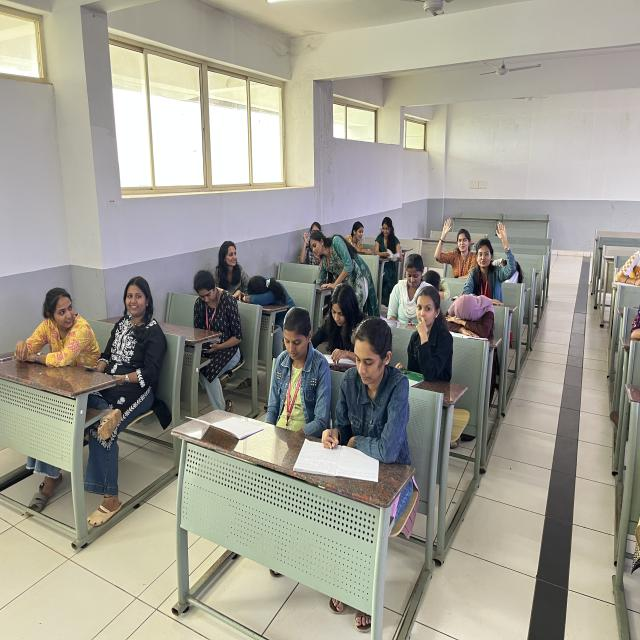Hand Rising: (462, 214, 516, 301), (434, 214, 478, 278)
Reading: (302, 280, 366, 362)
Sleeping: (441, 287, 504, 348), (240, 266, 300, 329)
Using Phone: (80, 266, 162, 408), (272, 302, 332, 437), (192, 268, 237, 357)
Writing: (313, 314, 399, 472)
